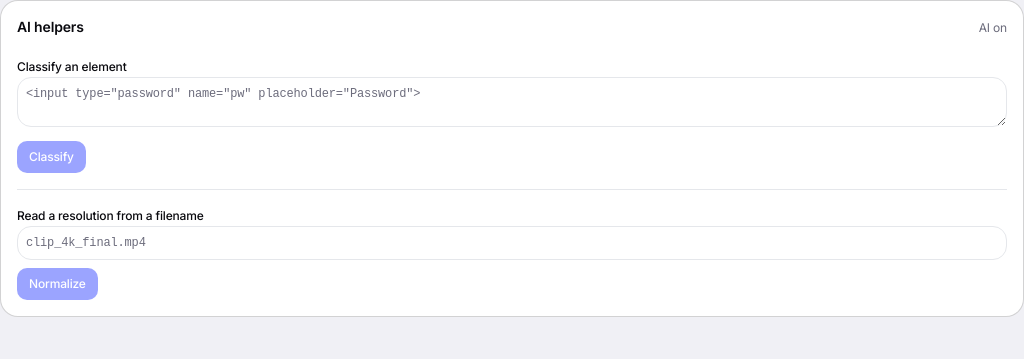
Test: AiHelpersPanel wires the two pure ai helpers › renders a regex hit with its provenance
Check: the text "AI on" is shown, box left=979, top=20, right=1007, bottom=36
Type "clip_4k.mp4" into the field labelled "Read a resolution from a filename" at (512, 243), box left=17, top=226, right=1007, bottom=260
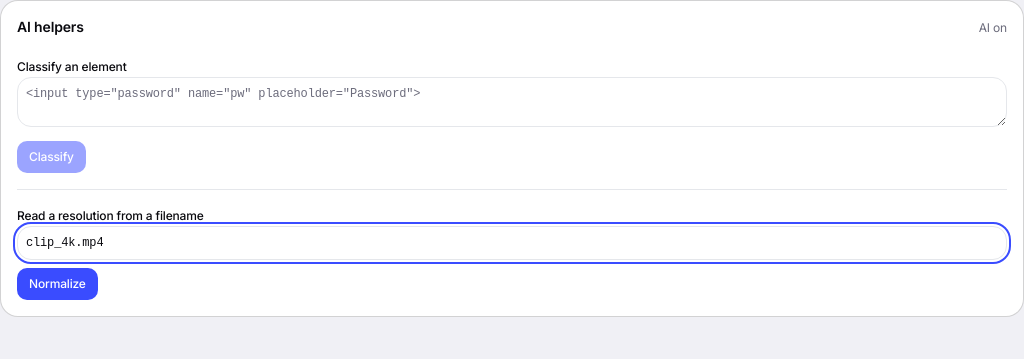
Click the button "Normalize" at (57, 284), box left=17, top=268, right=98, bottom=300
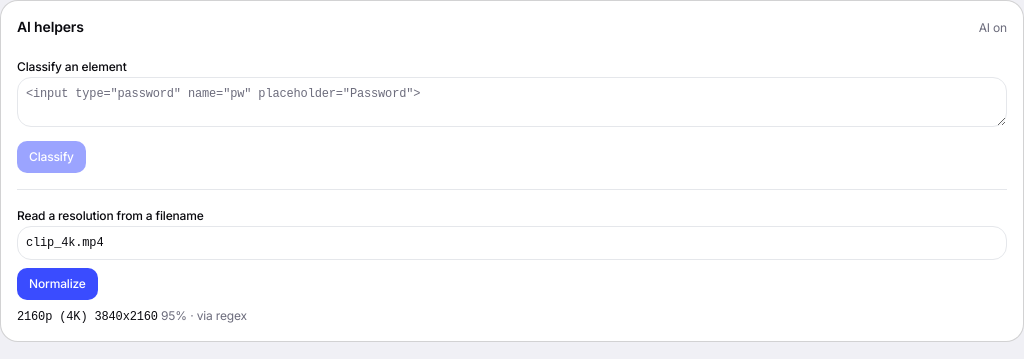
Check: the element with test id "normalize-result" shows "2160p", box left=17, top=310, right=52, bottom=324
Check: the element with test id "normalize-result" shows "via regex", box left=17, top=308, right=247, bottom=324
